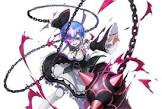rem: (43, 14, 107, 109)
